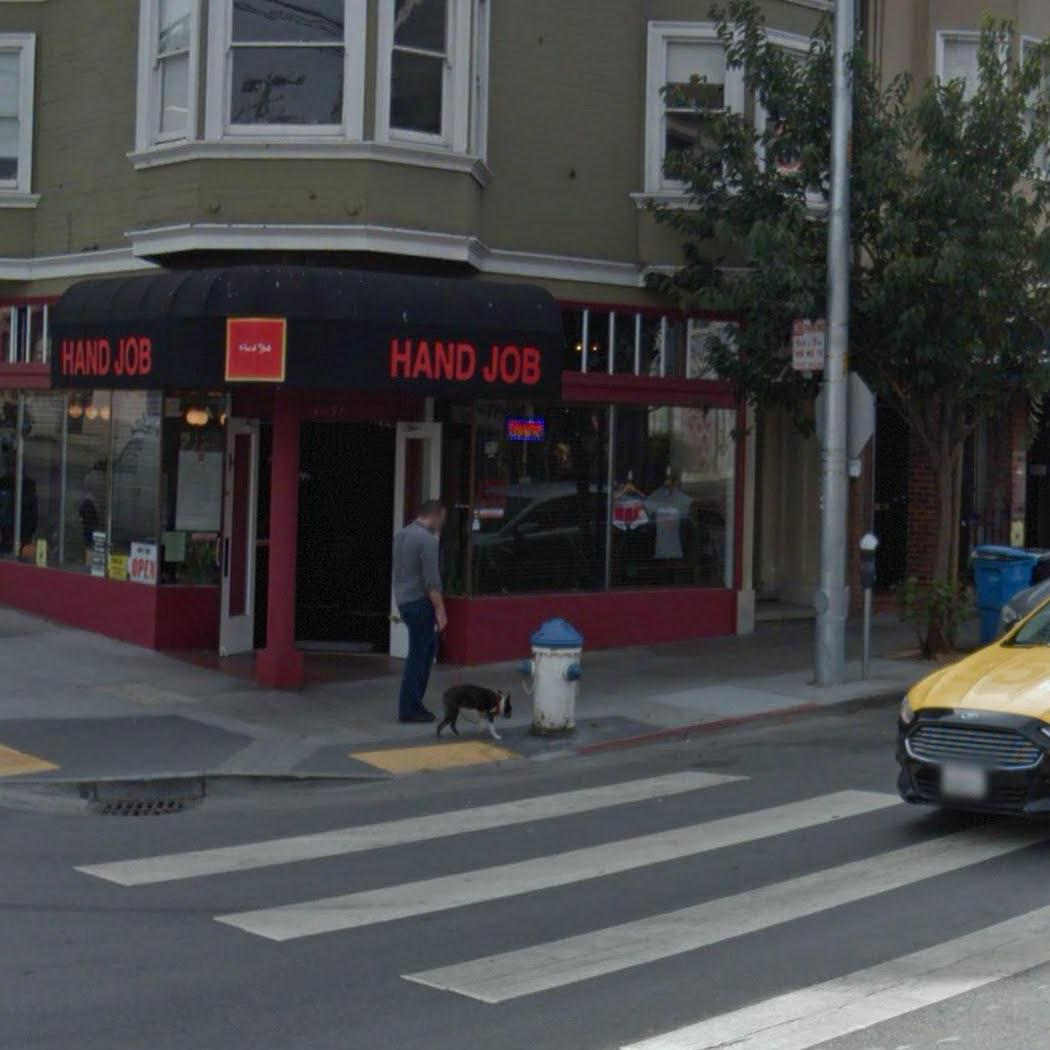No Parking: (788, 315, 829, 374)
